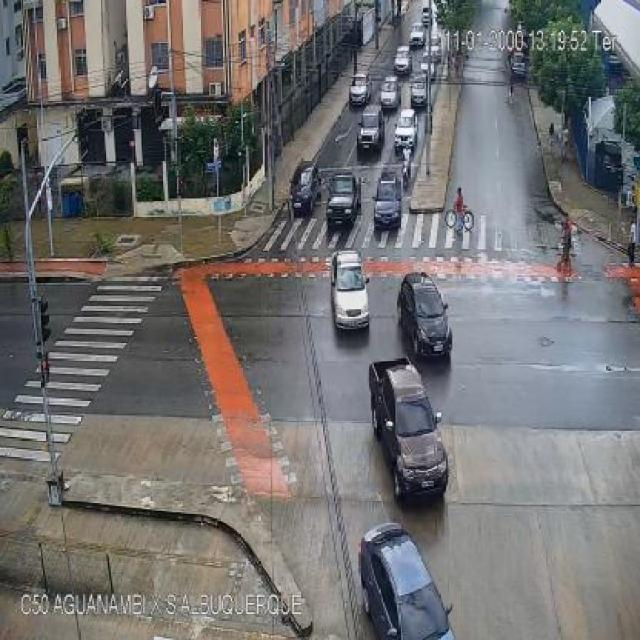Car: (358, 524, 456, 638), (397, 272, 452, 359), (329, 249, 370, 330), (324, 172, 362, 226), (373, 170, 405, 229), (290, 161, 322, 216), (357, 106, 384, 149), (393, 110, 418, 150), (348, 74, 371, 106), (379, 78, 400, 109), (410, 78, 428, 107), (393, 46, 412, 73), (2, 76, 26, 95), (510, 52, 528, 77), (409, 23, 425, 48), (419, 58, 435, 81), (428, 42, 441, 63), (422, 6, 431, 25)
Truck: (367, 362, 449, 505)
